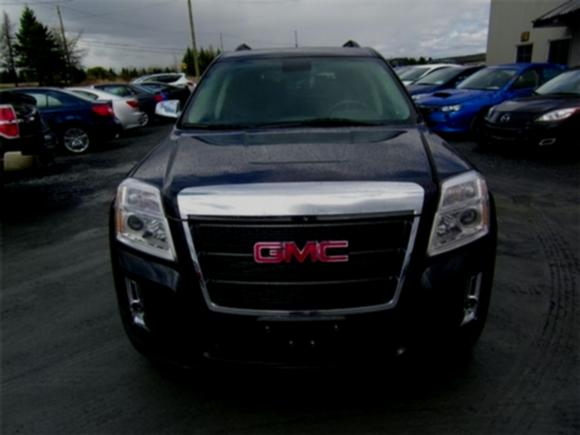GMC: (251, 236, 357, 269)
